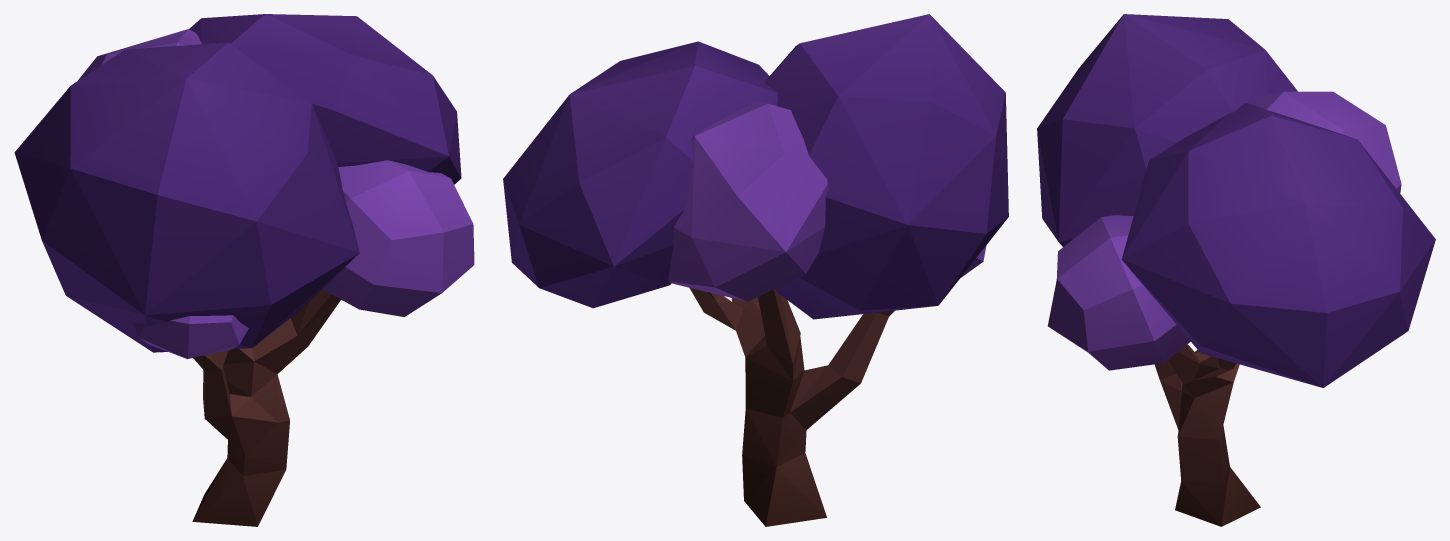
File: MagicTree1.fbx
3 renders of one model, left to right at view 1: azimuth 30°, elevation 25°; view 2: azimuth 150°, elevation 25°; view 3: azimuth 270°, elevation 25°, orthographic. The views are drawn at different scales.
Parts seen in each view (by area): view 1: MagicTree1; view 2: MagicTree1; view 3: MagicTree1.
Boxes of the visible parts, box(x1,y1,x2,y2) form: MagicTree1: box(14, 14, 474, 526); MagicTree1: box(503, 14, 1008, 526); MagicTree1: box(1037, 14, 1435, 526).
Size of the model in its own units: 484 by 530 by 424.
